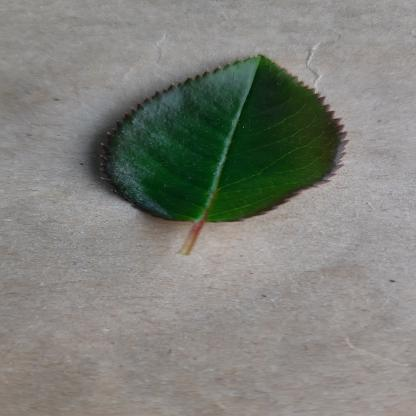normal: (95, 54, 352, 224)
